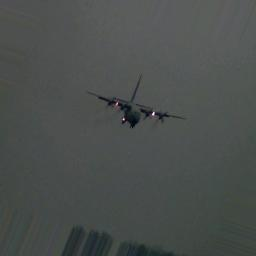Airplane: (88, 74, 188, 129)
